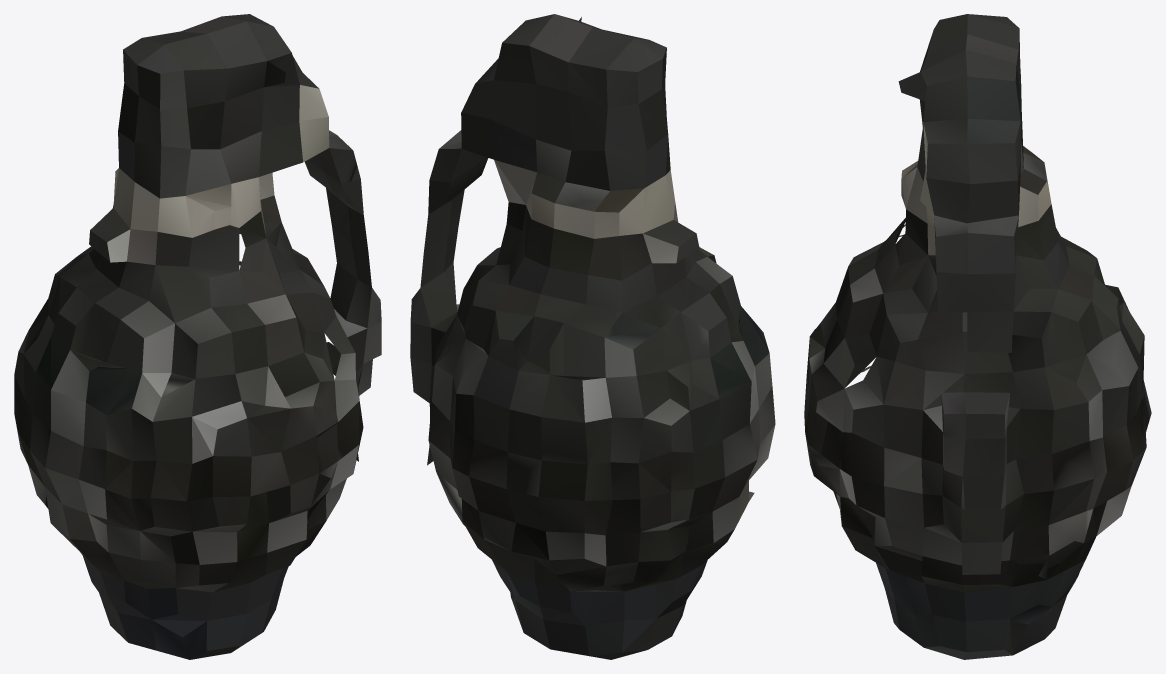
Rendered from masdim-granat.glb.
3 renders of one model, left to right at view 1: azimuth 30°, elevation 25°; view 2: azimuth 150°, elevation 25°; view 3: azimuth 270°, elevation 25°, orthographic.
Parts seen in each view (by area): view 1: masdim-granat; view 2: masdim-granat; view 3: masdim-granat.
Part boxes in pixels (x1,y1,x2,y2): masdim-granat: (14,14,381,659); masdim-granat: (410,14,775,659); masdim-granat: (804,14,1151,659).
Size of the model in its own units: 0.5497 by 0.9791 by 0.5006.
1 material, 1 textured.
